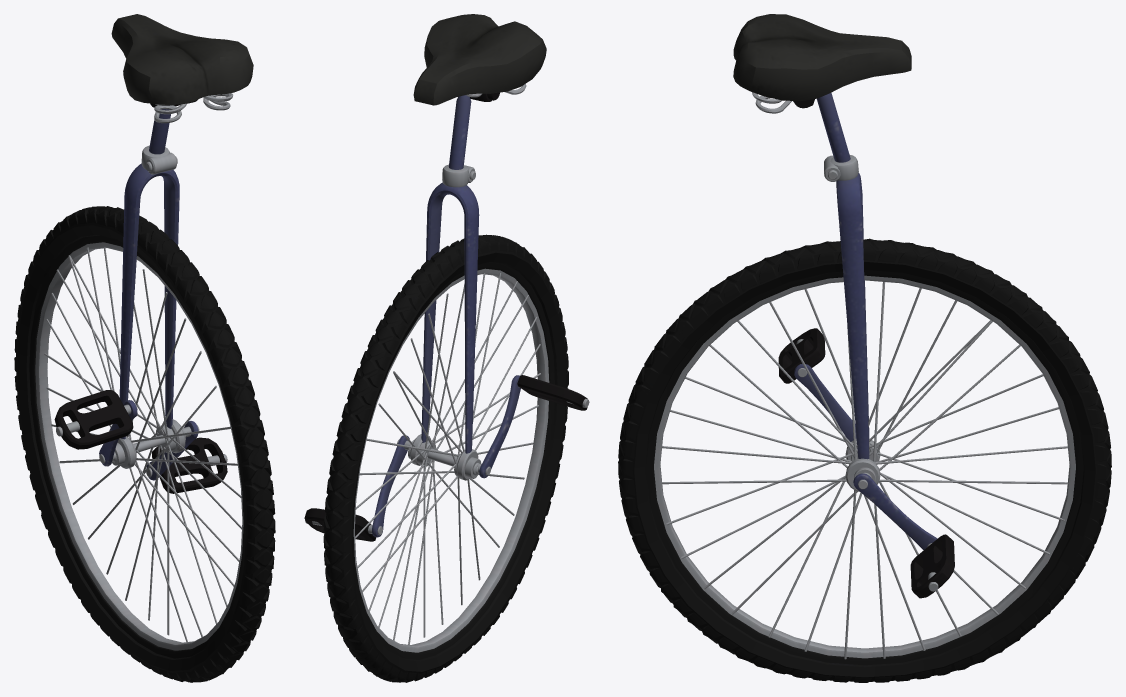
Rendered from bike_-_unicycle.glb.
The picture shows the model from 3 angles, left to right: view 1: azimuth 30°, elevation 25°; view 2: azimuth 150°, elevation 25°; view 3: azimuth 270°, elevation 25°; orthographic projection. The views are drawn at different scales.
Visible parts, largest first — view 1: Cube; view 2: Cube; view 3: Cube.
Part boxes in pixels (x1,y1,x2,y2): Cube: (14, 14, 275, 682); Cube: (304, 14, 589, 682); Cube: (618, 14, 1111, 682).
Bounding box in the file's own units: 895 × 2357 × 1626.
1 material, 1 textured.
